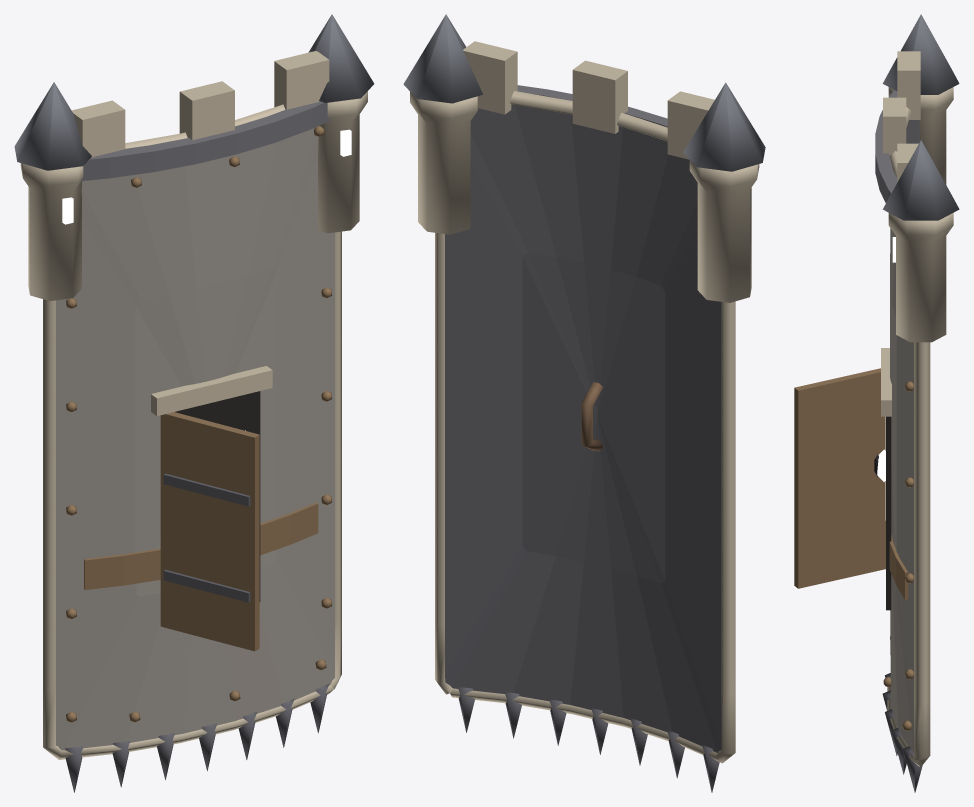
File: shield-gatehouse.glb
The picture shows the model from 3 angles, left to right: view 1: azimuth 30°, elevation 25°; view 2: azimuth 150°, elevation 25°; view 3: azimuth 270°, elevation 25°; orthographic projection. The views are drawn at different scales.
Parts seen in each view (by area): view 1: shield-gatehouse; view 2: shield-gatehouse; view 3: shield-gatehouse.
Boxes of the visible parts, <box> form: shield-gatehouse: <box>14,14,374,792</box>; shield-gatehouse: <box>403,14,765,792</box>; shield-gatehouse: <box>794,14,959,792</box>.
Size of the model in its own units: 1.35 by 2.64 by 0.5987.
